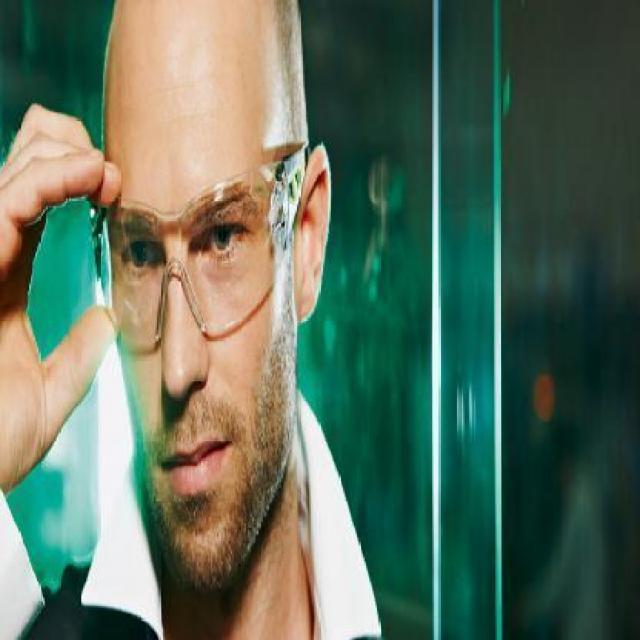Goggles: (61, 133, 326, 343)
